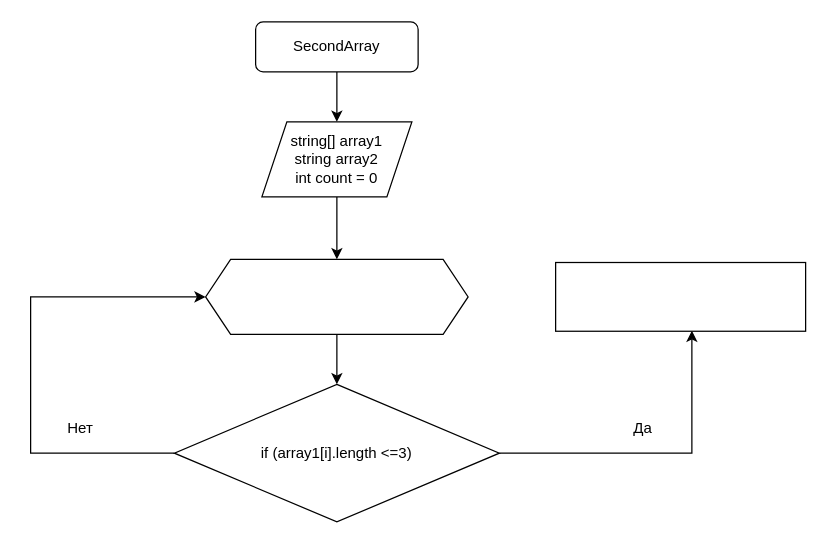
The diagram is 828 pixels wide and 544 high, and some of its shapes have lost their labels. The centre of each missing label's shape, as x and y in pixels:
"array2[count] = array1[i] count++;" goes at [680,296].
"for (int i = 0; i < array1.length; i++)" goes at [336,296].
